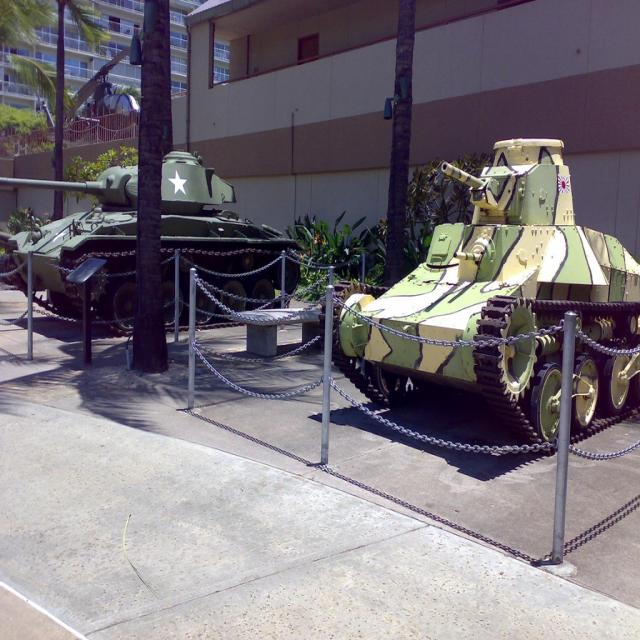tank: (319, 132, 639, 452), (0, 147, 305, 337)
